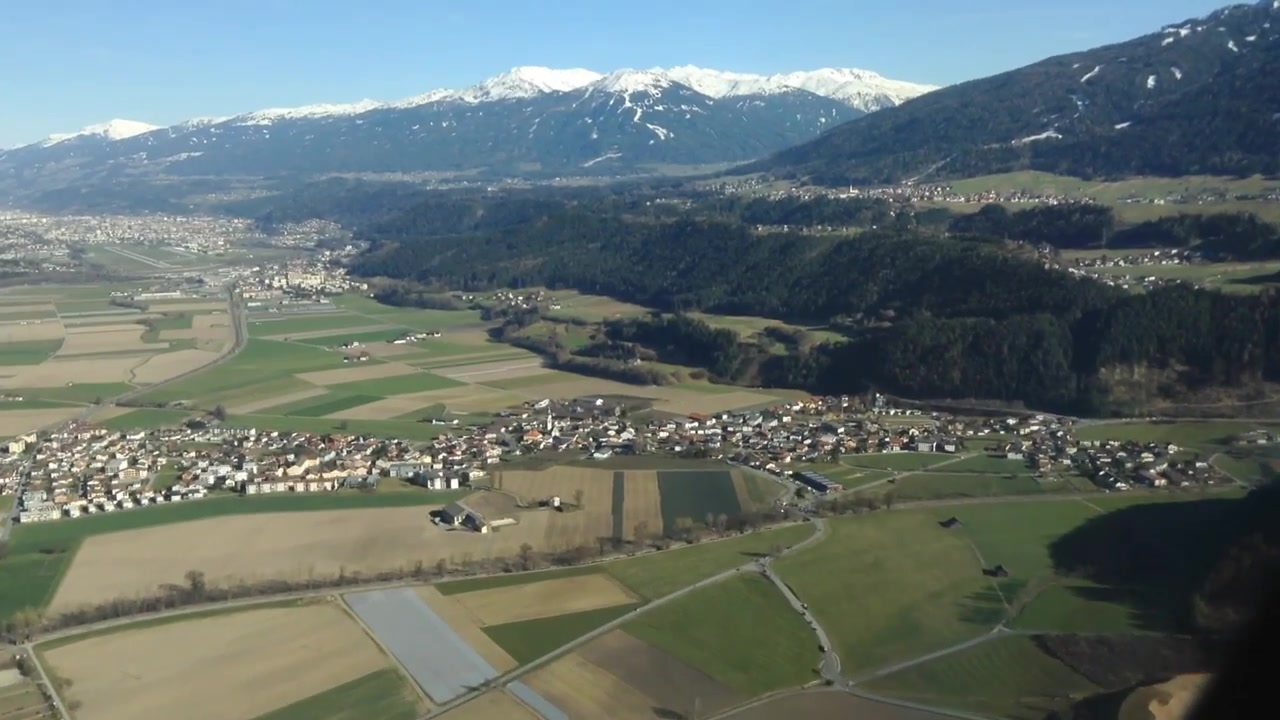runway: (104, 246, 173, 268)
